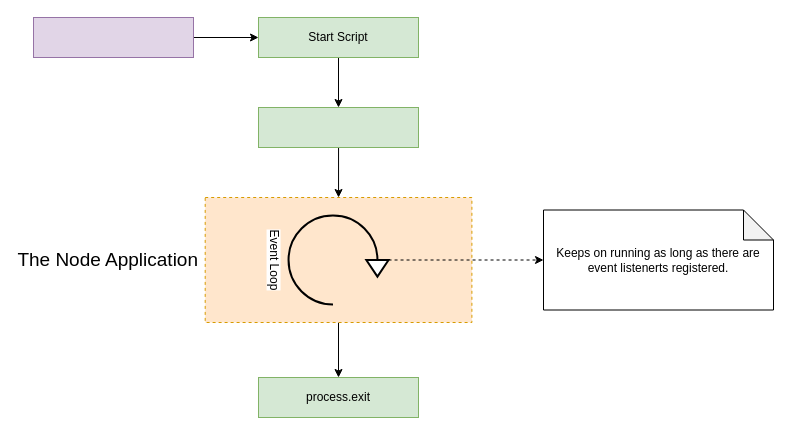
Some shapes in this 791 by 435 pixel diagram are drawn without their labels. Here are the shapes that lost their labels. From the top down, the centre of each, then its label:
At point (113, 37): "node app.js".
At point (338, 127): "Parse Code, Register Variables & Functions".
